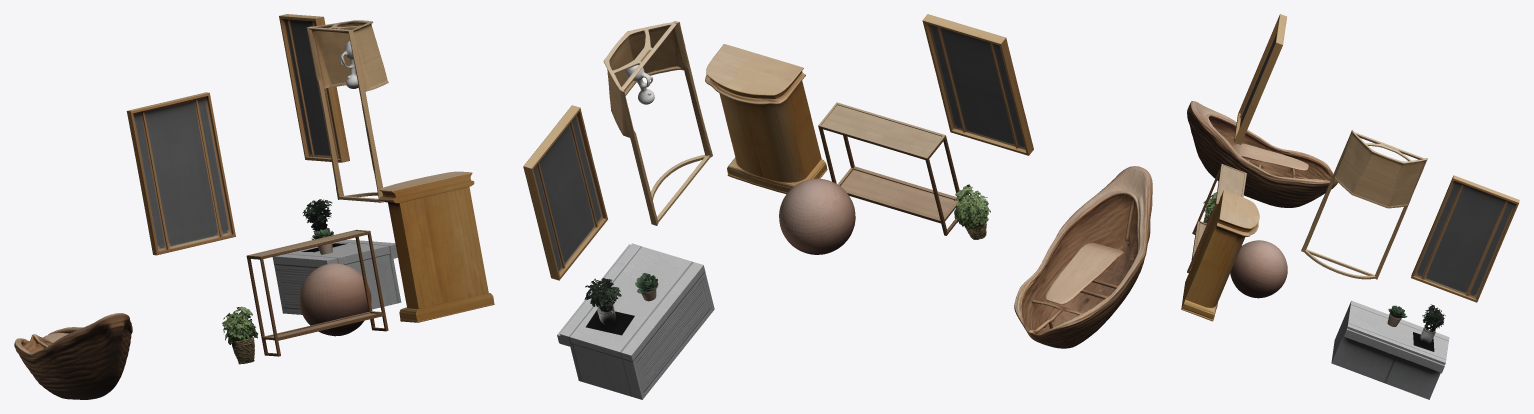
Rendered from gallery-sage-658a3d07-lowres.glb.
The picture shows the model from 3 angles, left to right: view 1: azimuth 30°, elevation 25°; view 2: azimuth 150°, elevation 25°; view 3: azimuth 270°, elevation 25°; orthographic projection. The views are drawn at different scales.
Visible parts, largest first — view 1: instance_2, instance_0, instance_9, instance_3, instance_4, instance_1, instance_10, instance_8, instance_7, instance_6; view 2: instance_9, instance_1, instance_0, instance_2, instance_4, instance_8, instance_3, instance_10, instance_6, instance_7; view 3: instance_4, instance_9, instance_1, instance_3, instance_0, instance_10, instance_2, instance_8, instance_6.
Boxes of the visible parts, box(x1,y1,x2,y2) form: instance_2: box(126, 92, 235, 255); instance_0: box(378, 171, 494, 322); instance_9: box(14, 313, 132, 399); instance_3: box(306, 20, 388, 202); instance_4: box(279, 14, 349, 162); instance_1: box(272, 239, 401, 314); instance_10: box(299, 263, 371, 336); instance_8: box(246, 229, 388, 356); instance_7: box(222, 306, 258, 364); instance_6: box(301, 199, 347, 252); instance_9: box(1014, 166, 1152, 348); instance_1: box(557, 243, 714, 399); instance_0: box(705, 44, 827, 194); instance_2: box(922, 14, 1033, 155); instance_4: box(523, 105, 607, 280); instance_8: box(818, 102, 959, 235); instance_3: box(603, 21, 712, 225); instance_10: box(779, 178, 855, 254); instance_6: box(584, 278, 634, 335); instance_7: box(954, 184, 990, 239); instance_4: box(1411, 175, 1519, 302); instance_9: box(1187, 101, 1338, 207); instance_1: box(1331, 300, 1449, 399); instance_3: box(1301, 130, 1427, 279); instance_0: box(1181, 190, 1259, 321); instance_10: box(1230, 240, 1287, 298); instance_2: box(1234, 14, 1286, 144); instance_8: box(1187, 164, 1246, 273); instance_6: box(1413, 304, 1445, 351).
Size of the model in its own units: 2.22 by 1.66 by 1.9.
Materials: 11 (11 with a texture image).
